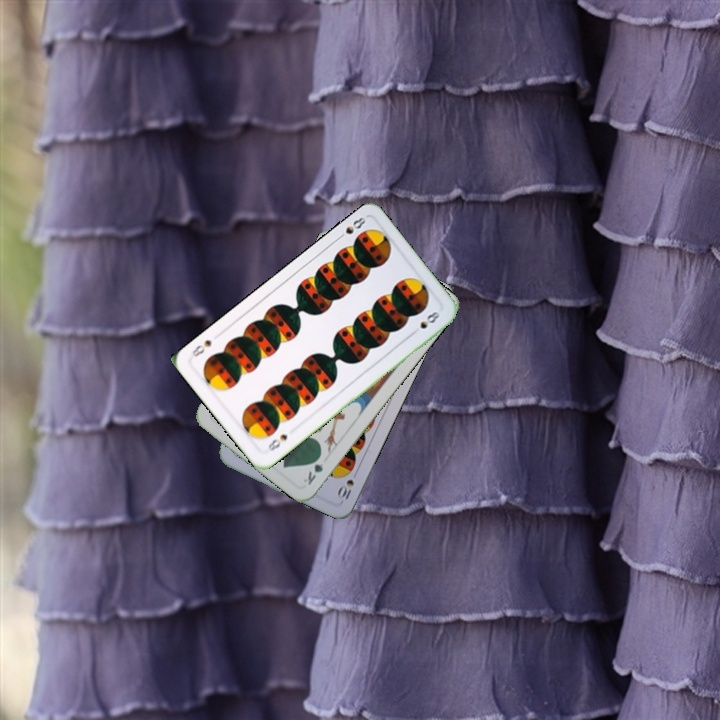GK: (299, 450, 326, 488)
S10: (333, 466, 361, 504)
S8: (333, 212, 368, 243), (264, 430, 290, 454)
